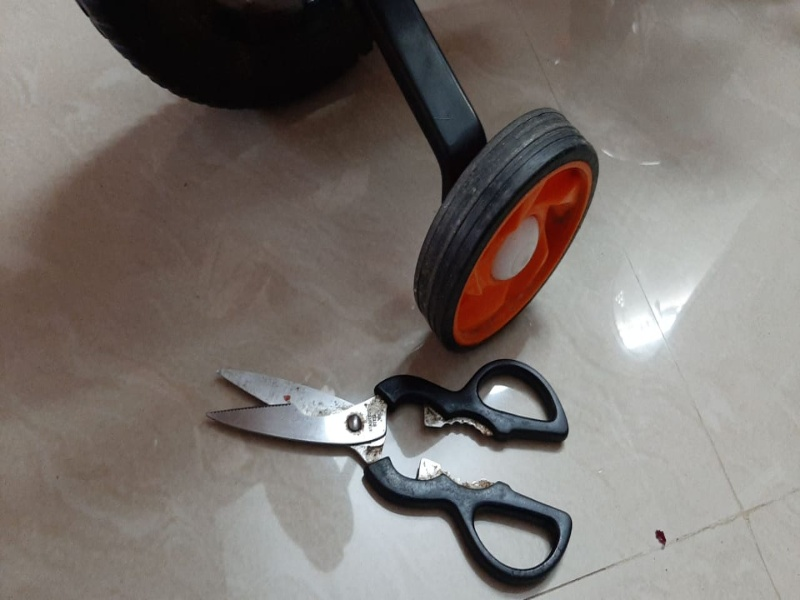scissor: (205, 353, 574, 595)
